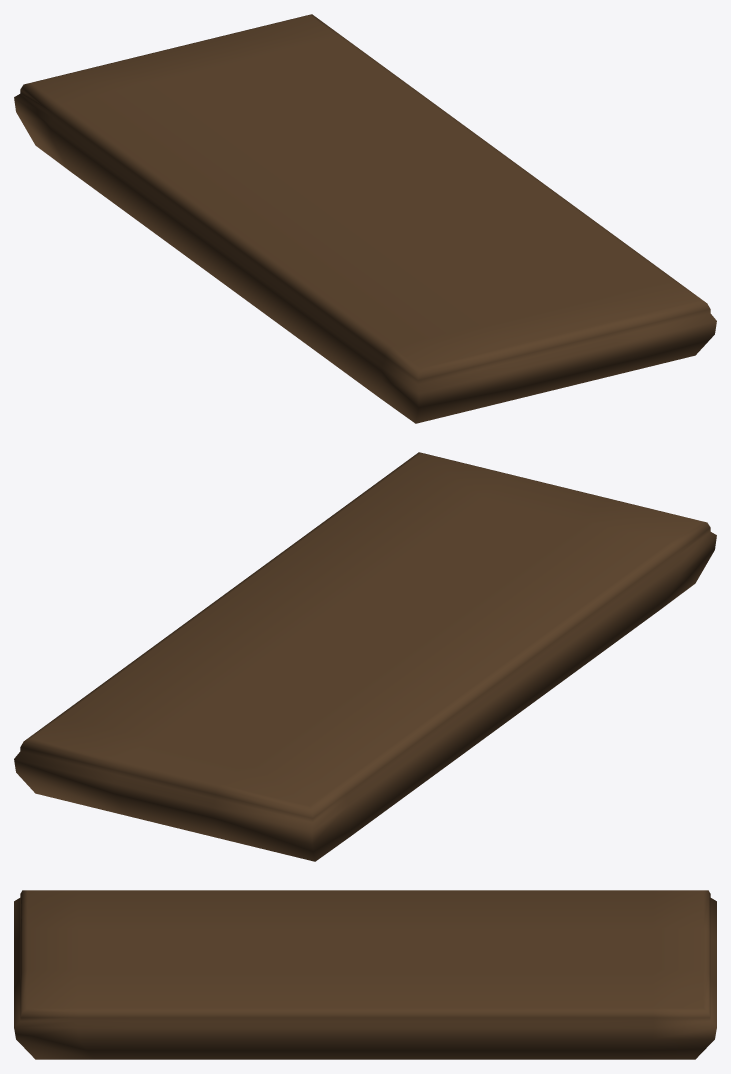
The model's file is props_platform_librabry.fbx.
The picture shows the model from 3 angles, top to bottom: view 1: azimuth 30°, elevation 25°; view 2: azimuth 150°, elevation 25°; view 3: azimuth 270°, elevation 25°; orthographic projection. The views are drawn at different scales.
Visible parts, largest first — view 1: Cube; view 2: Cube; view 3: Cube.
Part boxes in pixels (left/top/right/bottom): Cube: left=14, top=14, right=716, bottom=423; Cube: left=14, top=452, right=716, bottom=861; Cube: left=14, top=890, right=716, bottom=1059.
Bounding box in the file's own units: 3.64 × 8.52 × 0.7459.
